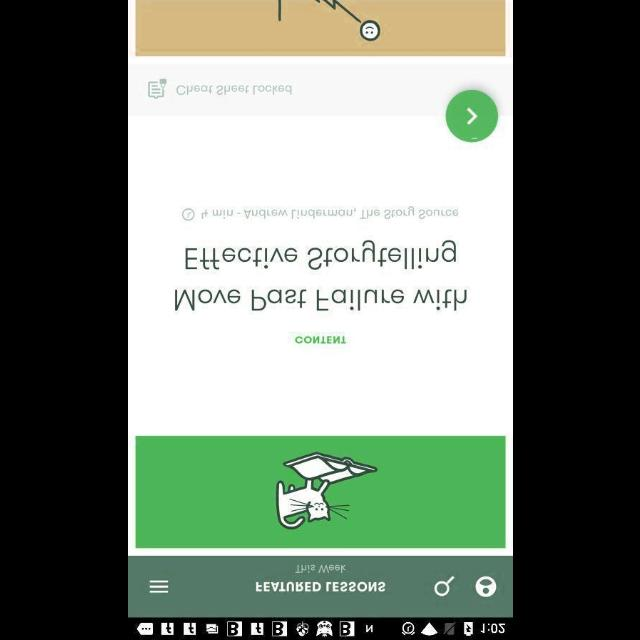button: (444, 90, 498, 142)
icon: (475, 575, 497, 597), (434, 574, 454, 596), (148, 78, 166, 99), (148, 579, 168, 593), (182, 208, 194, 220)
image: (135, 436, 505, 548), (135, 0, 505, 56)
text: (174, 240, 466, 312), (202, 206, 458, 220), (255, 580, 385, 592), (176, 85, 292, 96), (294, 336, 346, 344), (294, 564, 346, 572)
toolbar: (128, 556, 512, 616)
uppertaskbar: (128, 617, 512, 639)
